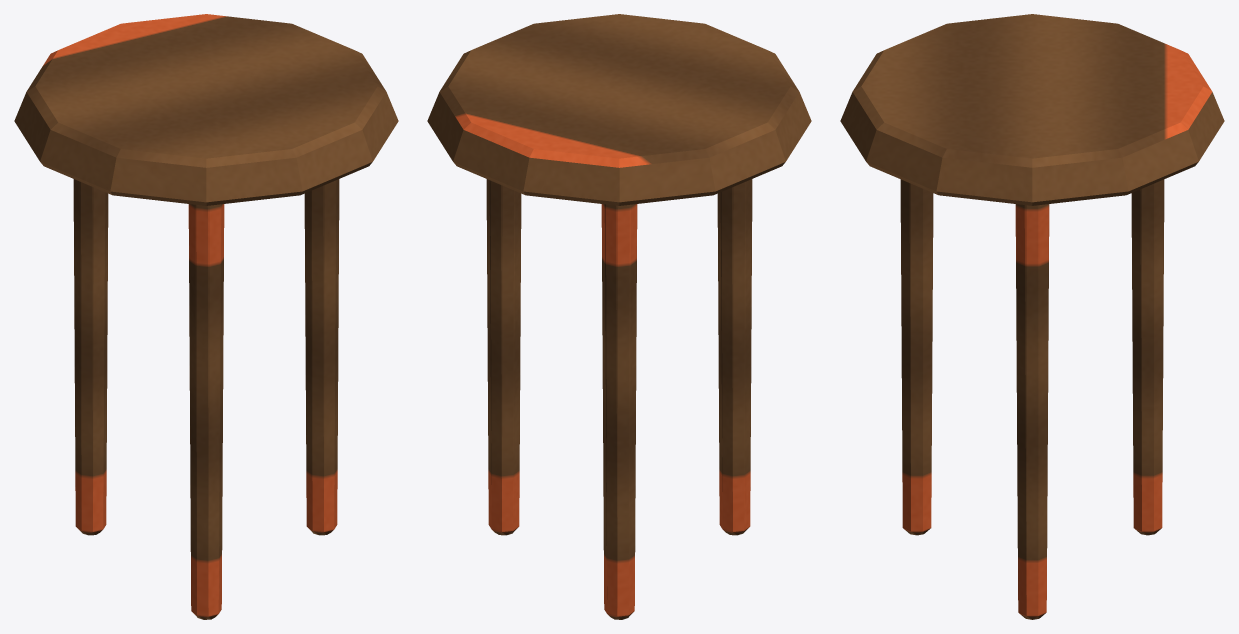
Rendered from Stool.glb.
3 views of the same model, side by side, from view 1: azimuth 30°, elevation 25°; view 2: azimuth 150°, elevation 25°; view 3: azimuth 270°, elevation 25° (orthographic).
Visible parts, largest first — view 1: Stool; view 2: Stool; view 3: Stool.
Boxes of the visible parts, x1,y1,x2,y2 form: Stool: (14,14,398,619); Stool: (427,14,811,619); Stool: (840,14,1224,619).
Bounding box in the file's own units: 0.6919 × 0.94 × 0.6919.
Materials: 1 (1 with a texture image).
